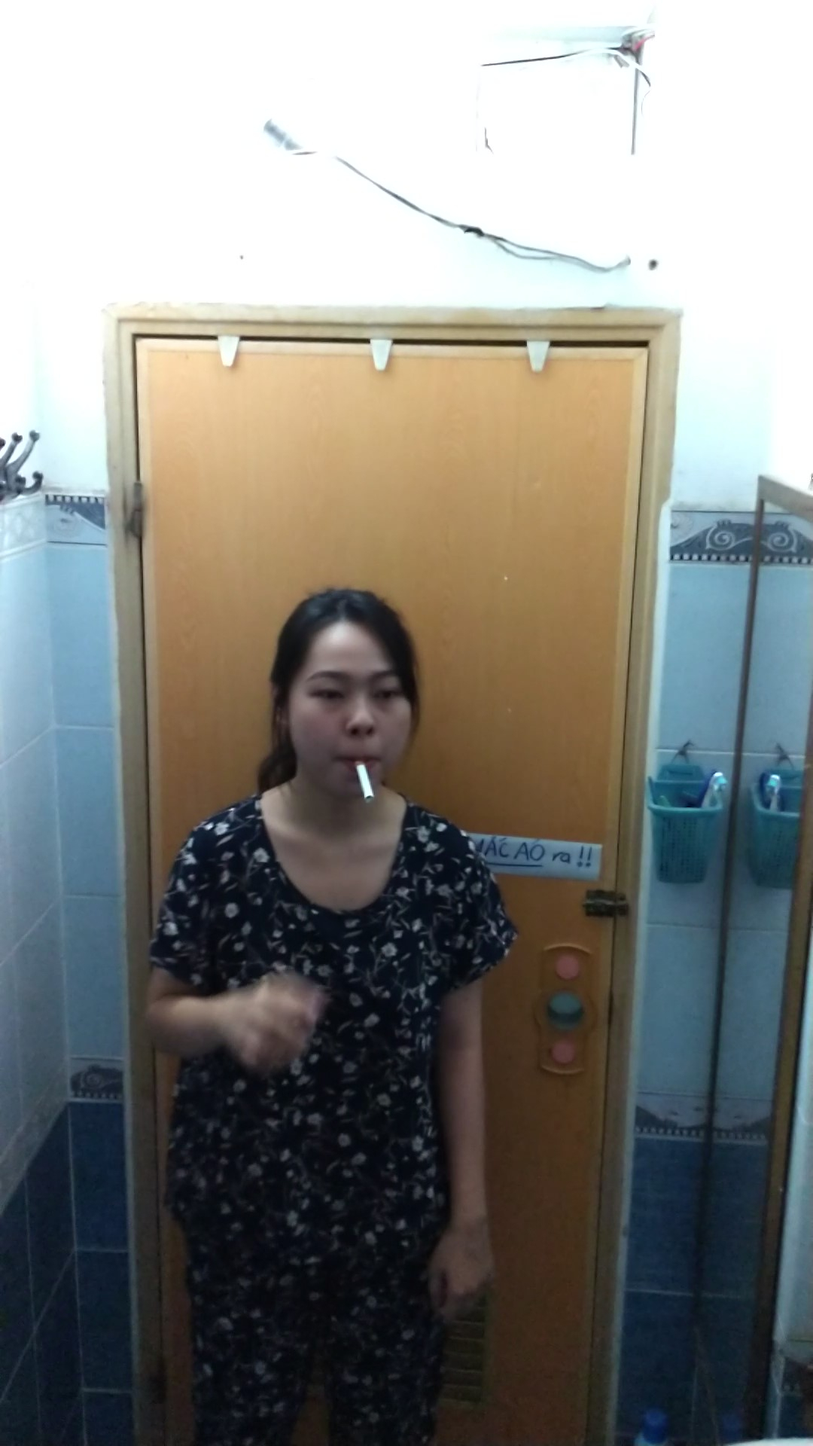cigarette: (349, 758, 379, 809)
person: (140, 575, 528, 1446)
